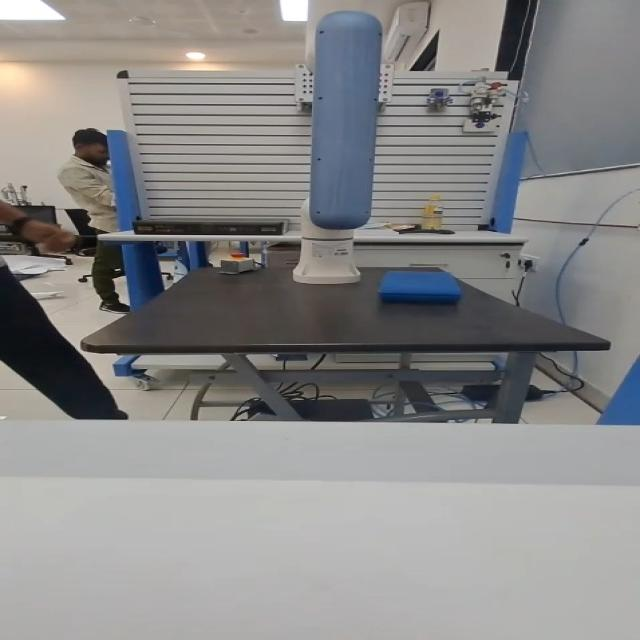top-surface: (388, 273, 452, 287)
